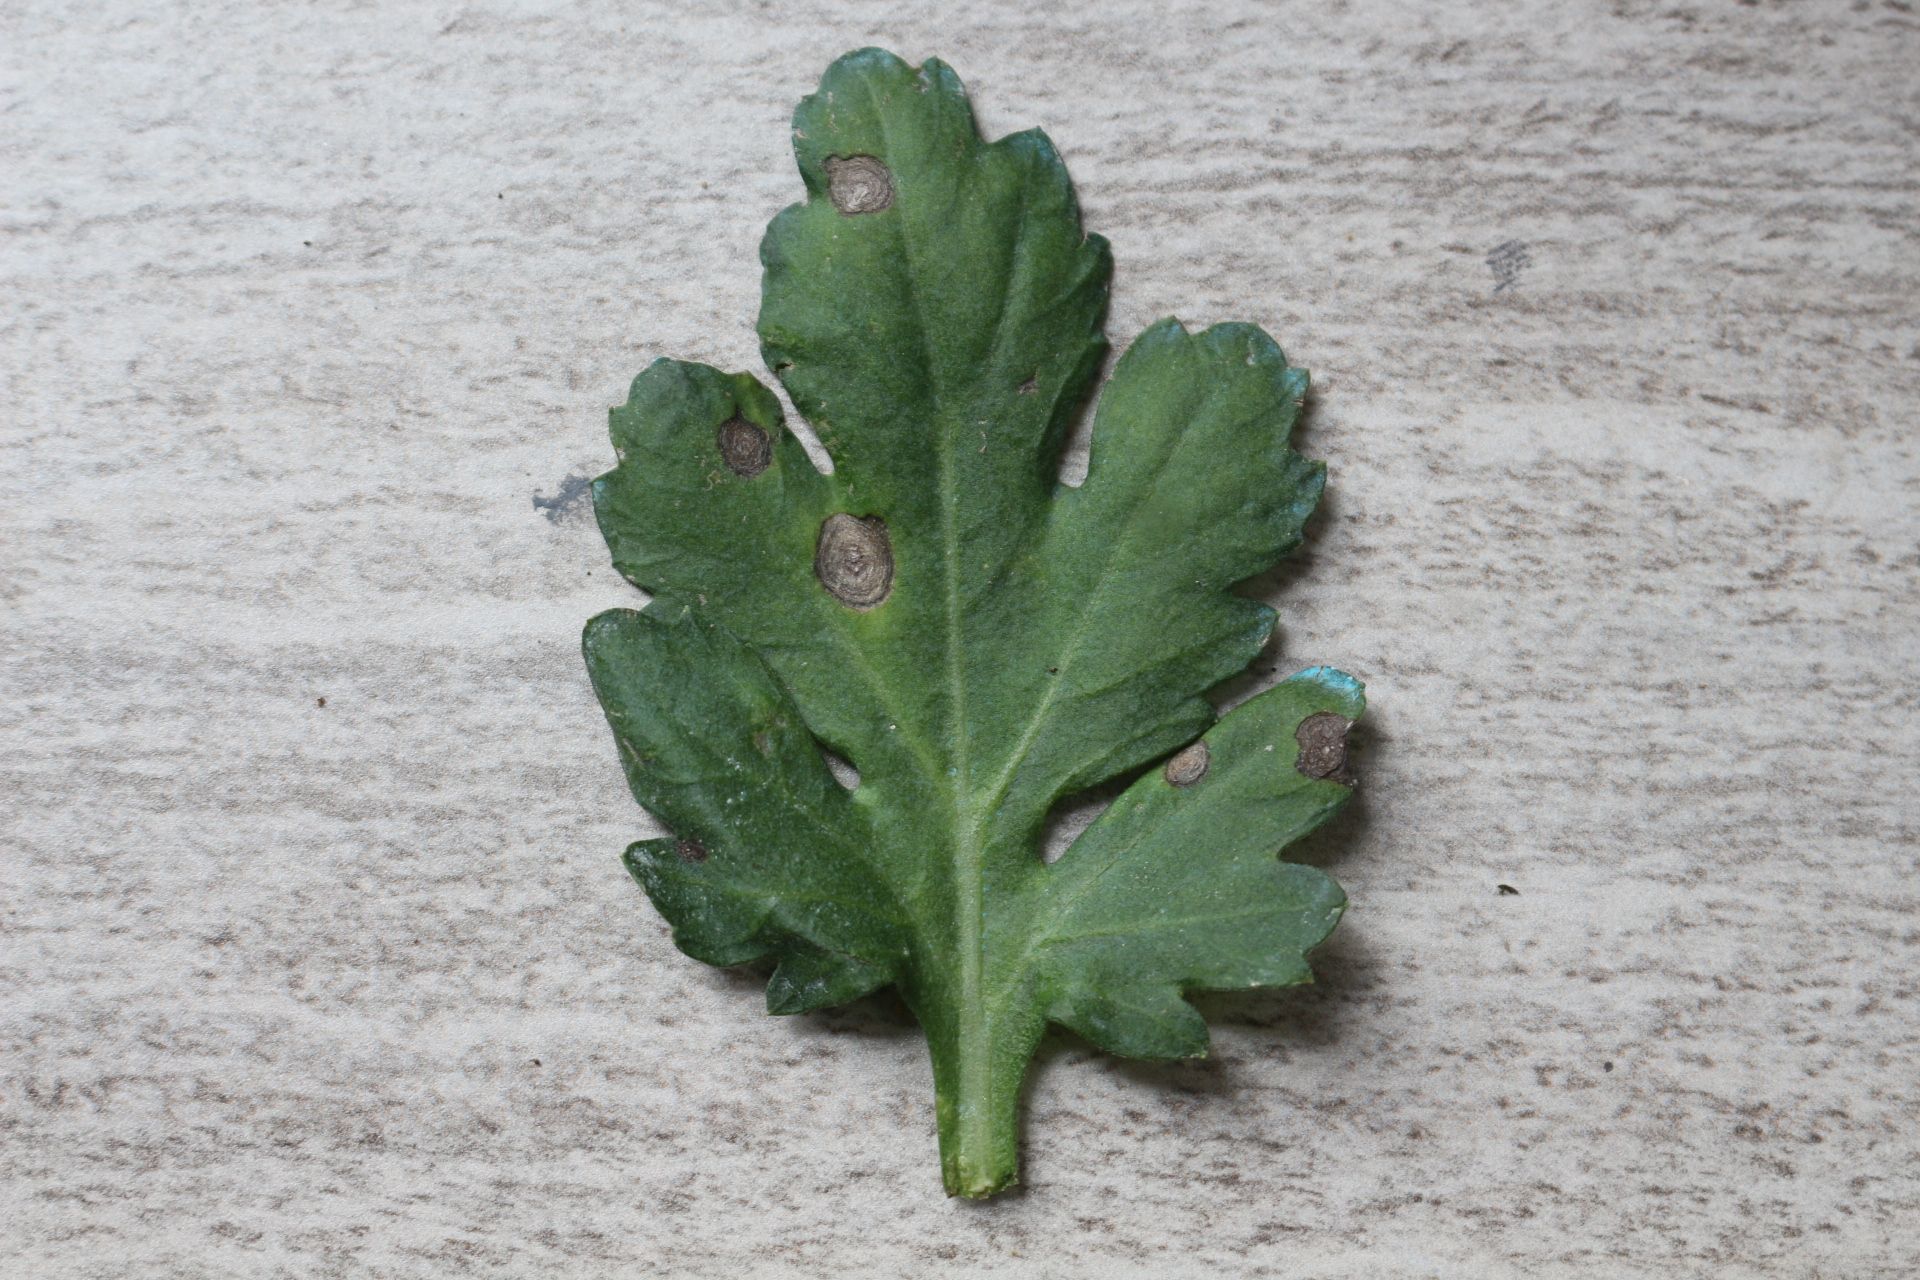namden: (804, 509, 900, 607), (1294, 714, 1364, 801), (816, 156, 899, 219), (713, 419, 786, 490), (1156, 740, 1216, 791)
